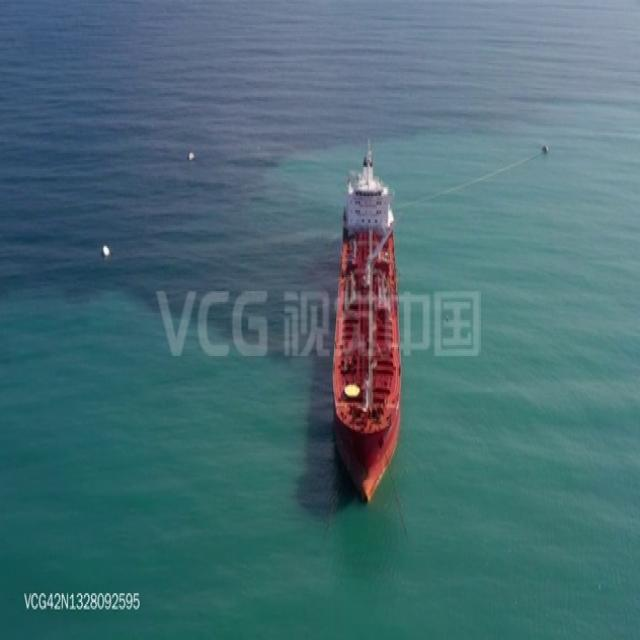cargoship: (332, 137, 402, 501)
